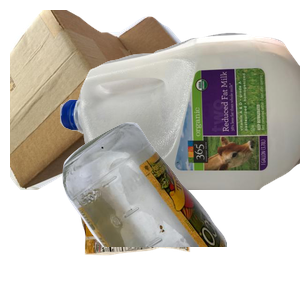cardboard: (10, 10, 206, 190)
glass: (60, 120, 300, 300)
plastic: (60, 30, 300, 210)
trash: (76, 159, 259, 300)
